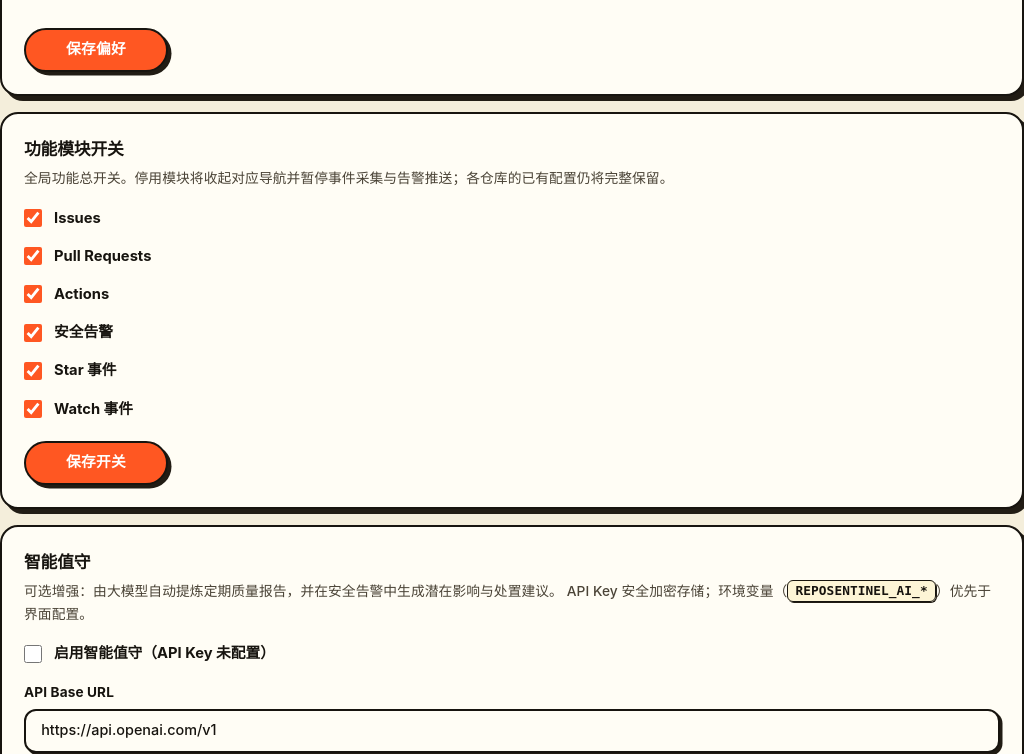
Scenario: 设置页 › 功能模块区块提供 Star 事件与 Watch 事件开关并提交对应键
The image size is (1024, 754).
(page scrolled)
Check: the checkbox labelled "Watch 事件" is checked, box [24,400,42,418]
// 关闭 Star 事件后保存，验证两个键进入提交负载。
Click the checkbox labelled "Star 事件" at [33, 371], box [24,362,42,380]
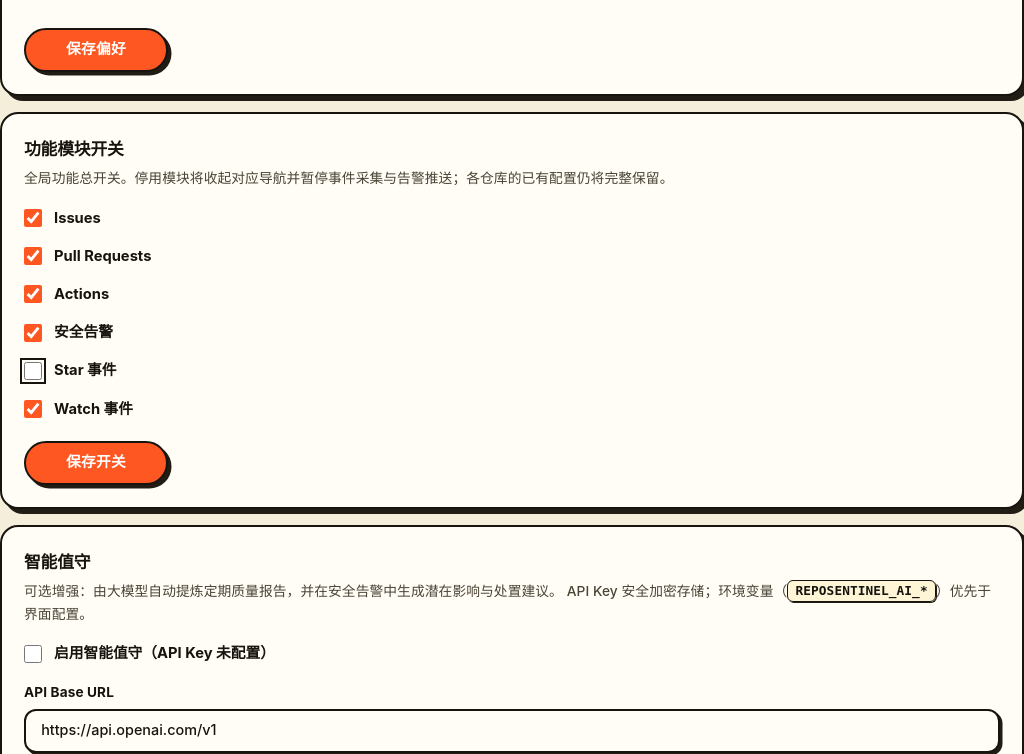
Click the button "保存开关" at [96, 463], box [24,441,168,485]
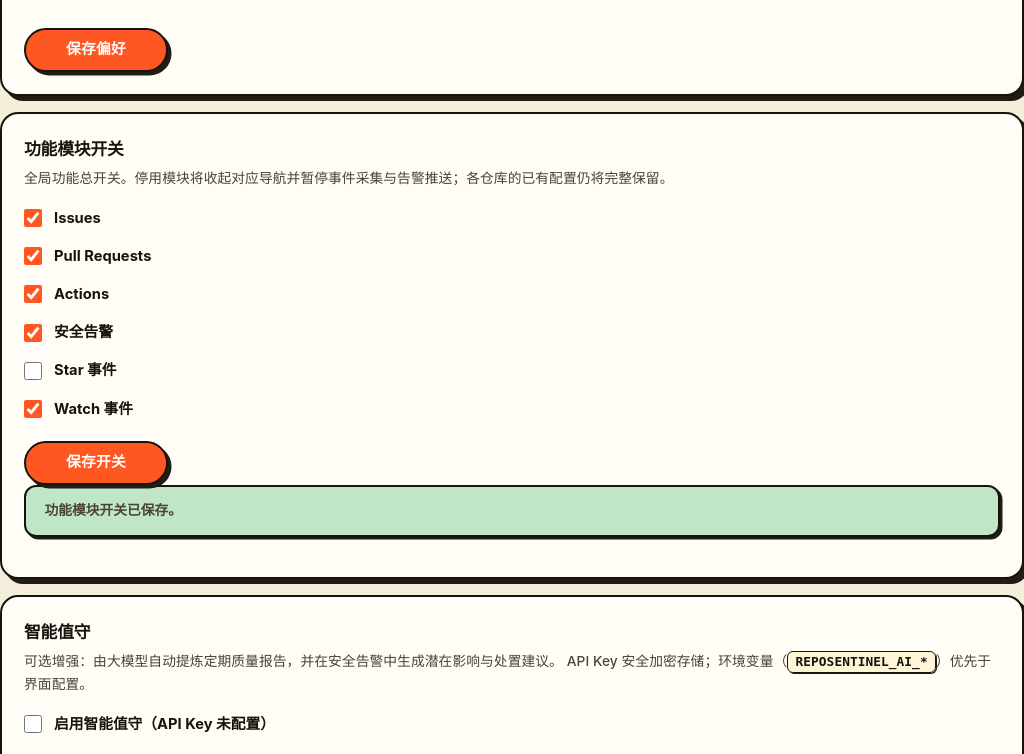
Check: the text "功能模块开关已保存。" is shown, box [24,485,1000,537]
